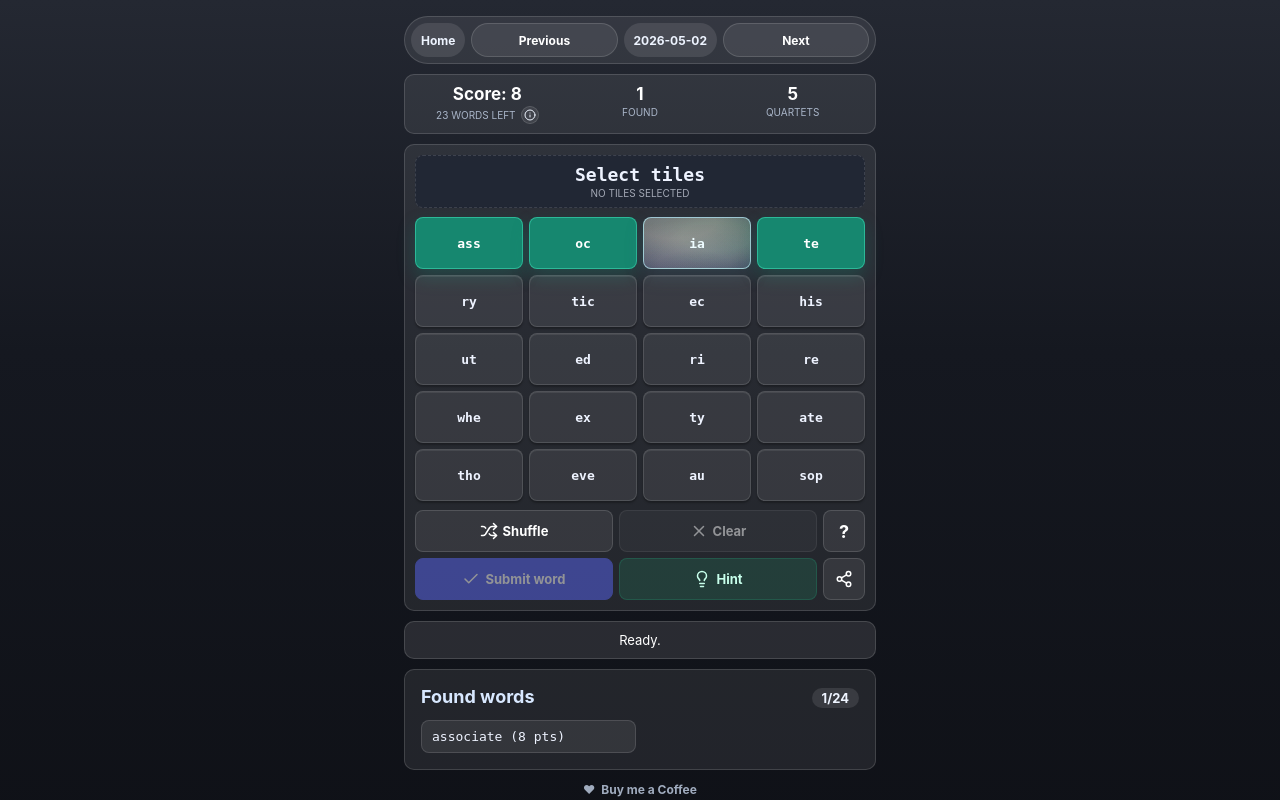
Test: lexitiles app › marks a tile exhausted after the last remaining word using it is found
Click the button "ass" at (469, 243), box left=415, top=217, right=523, bottom=269
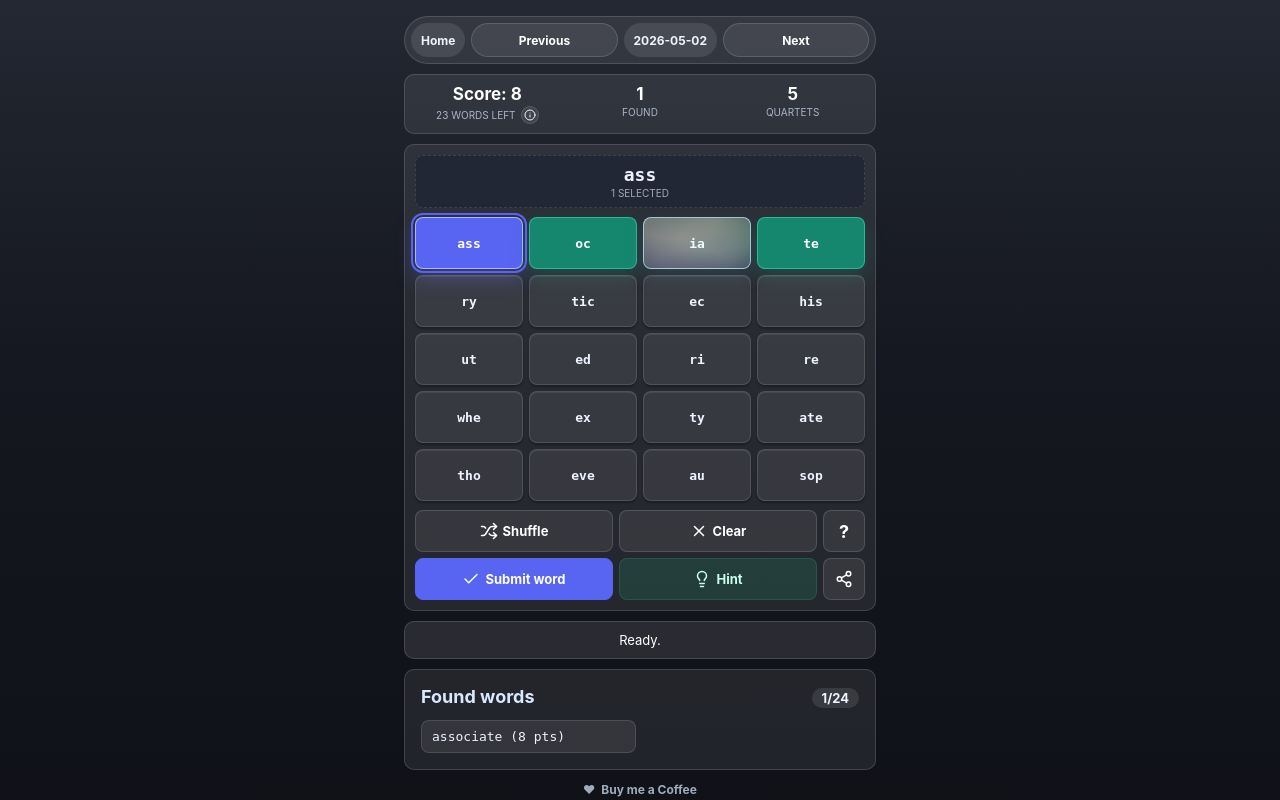
Click the button "Submit word" at (514, 579), box left=415, top=558, right=613, bottom=600
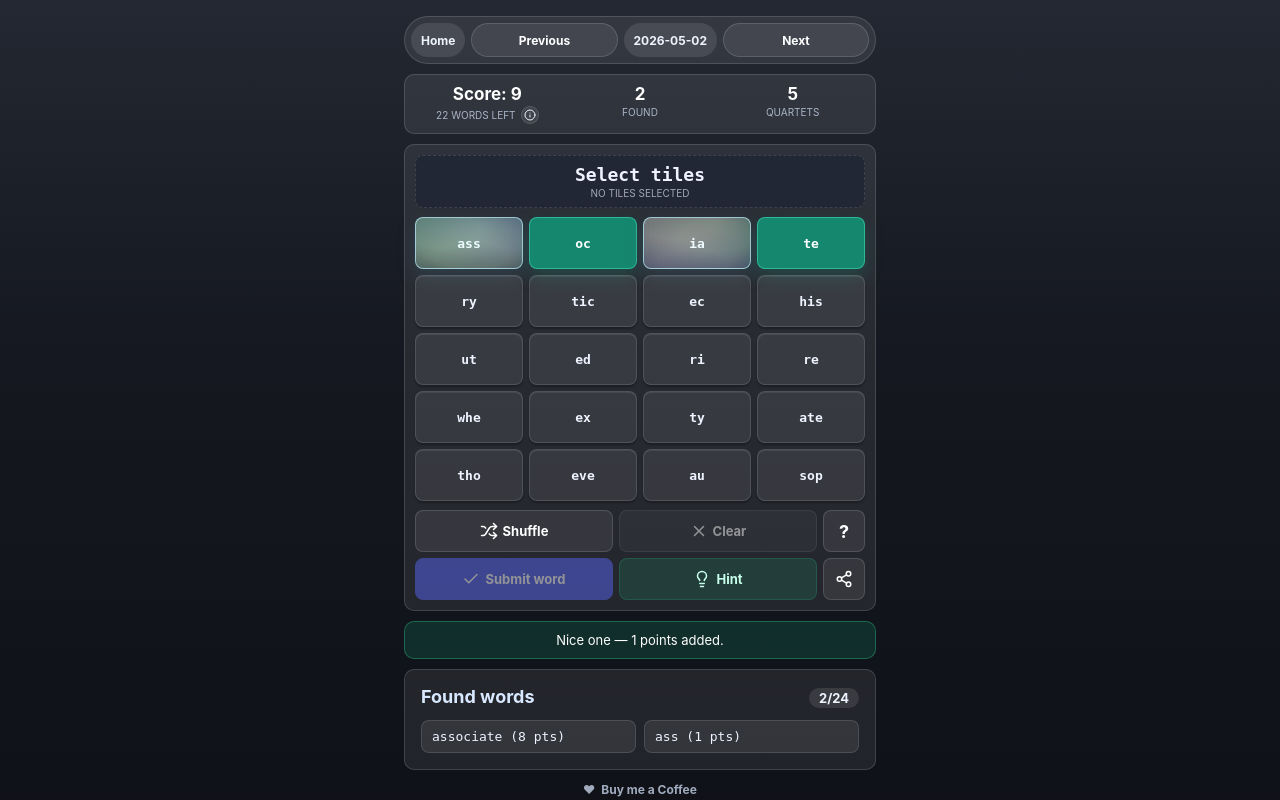
expect the button "ass" is disabled: met, box left=415, top=217, right=523, bottom=269
